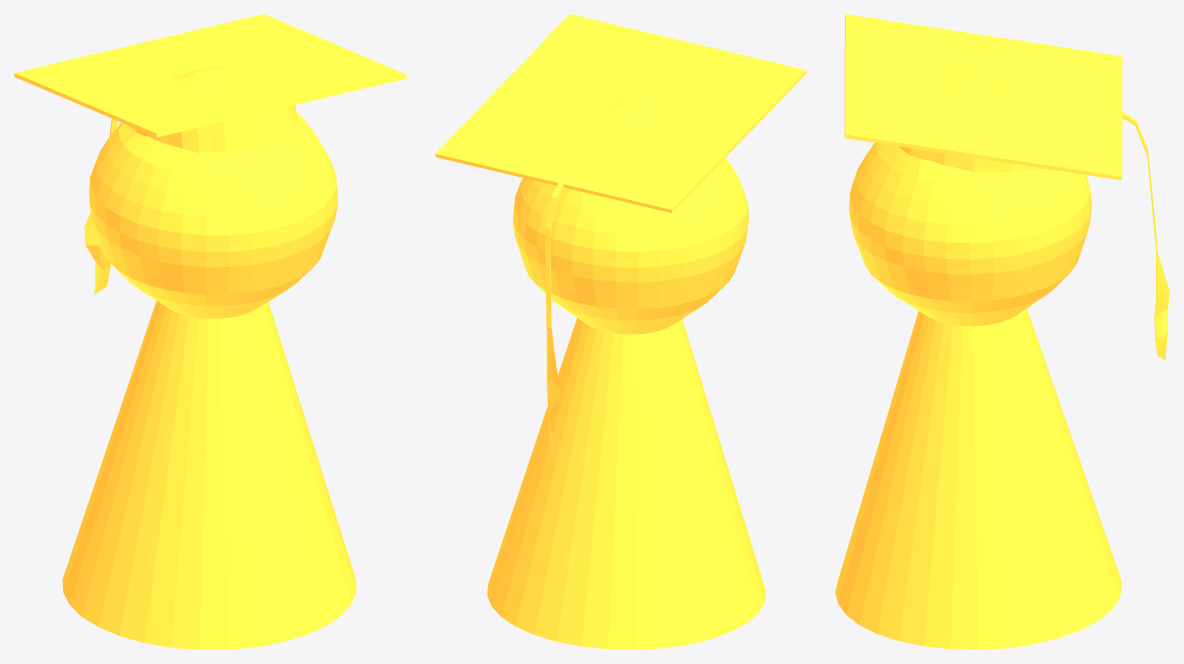
The model's file is Spieler_Test_mit_Hut.fbx.
3 renders of one model, left to right at view 1: azimuth 30°, elevation 25°; view 2: azimuth 150°, elevation 25°; view 3: azimuth 270°, elevation 25°, orthographic. The views are drawn at different scales.
Parts seen in each view (by area): view 1: Cylinder; view 2: Cylinder; view 3: Cylinder.
Part boxes in pixels (x1,y1,x2,y2): Cylinder: (14, 14, 406, 649); Cylinder: (435, 14, 806, 649); Cylinder: (835, 14, 1169, 649).
Size of the model in its own units: 0.8541 by 1.7 by 0.9919.
